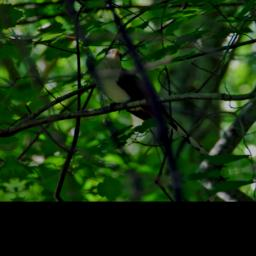Cuckoo: (87, 36, 217, 171)
